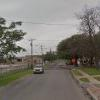Car: (30, 56, 48, 81)
